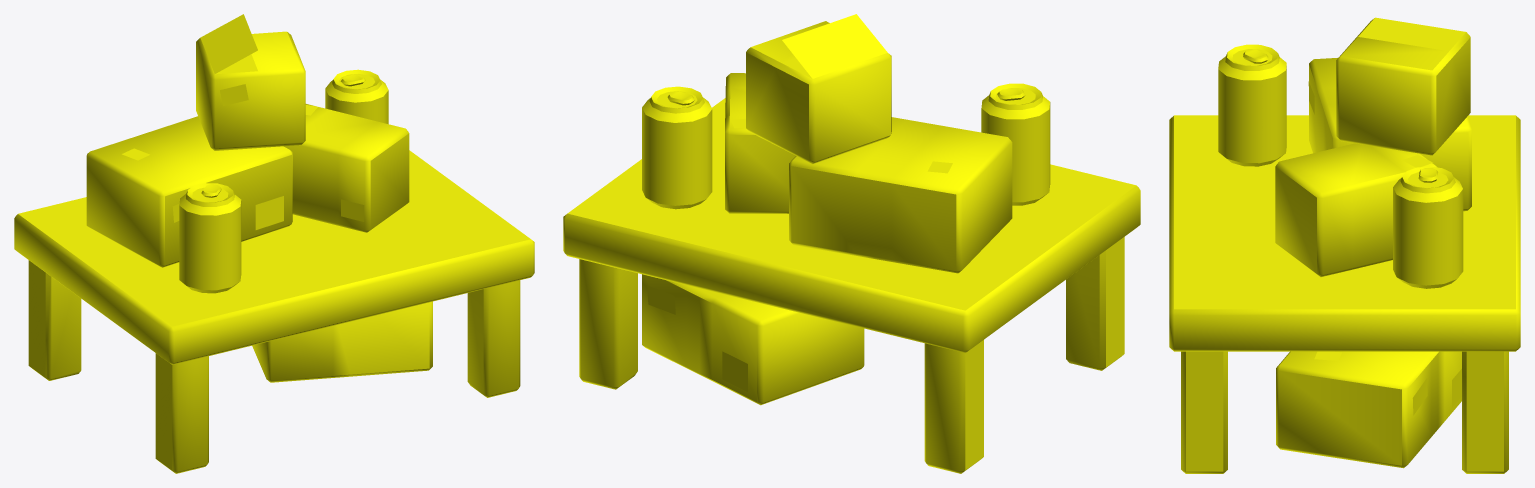
File: kaykit-table-medium-decorated.glb
3 views of the same model, side by side, from view 1: azimuth 30°, elevation 25°; view 2: azimuth 150°, elevation 25°; view 3: azimuth 270°, elevation 25° (orthographic). The views are drawn at different scales.
Parts seen in each view (by area): view 1: table_medium_Decorated; view 2: table_medium_Decorated; view 3: table_medium_Decorated.
Part boxes in pixels (x1,y1,x2,y2): table_medium_Decorated: (14,14,534,473); table_medium_Decorated: (563,14,1140,473); table_medium_Decorated: (1169,17,1520,473).
Size of the model in its own units: 2 by 1.71 by 1.5.
